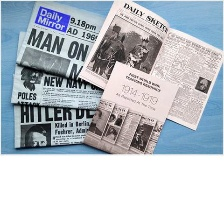news_paper: (73, 0, 224, 132), (80, 58, 181, 156), (7, 25, 111, 111), (11, 0, 116, 85), (8, 85, 104, 153)
